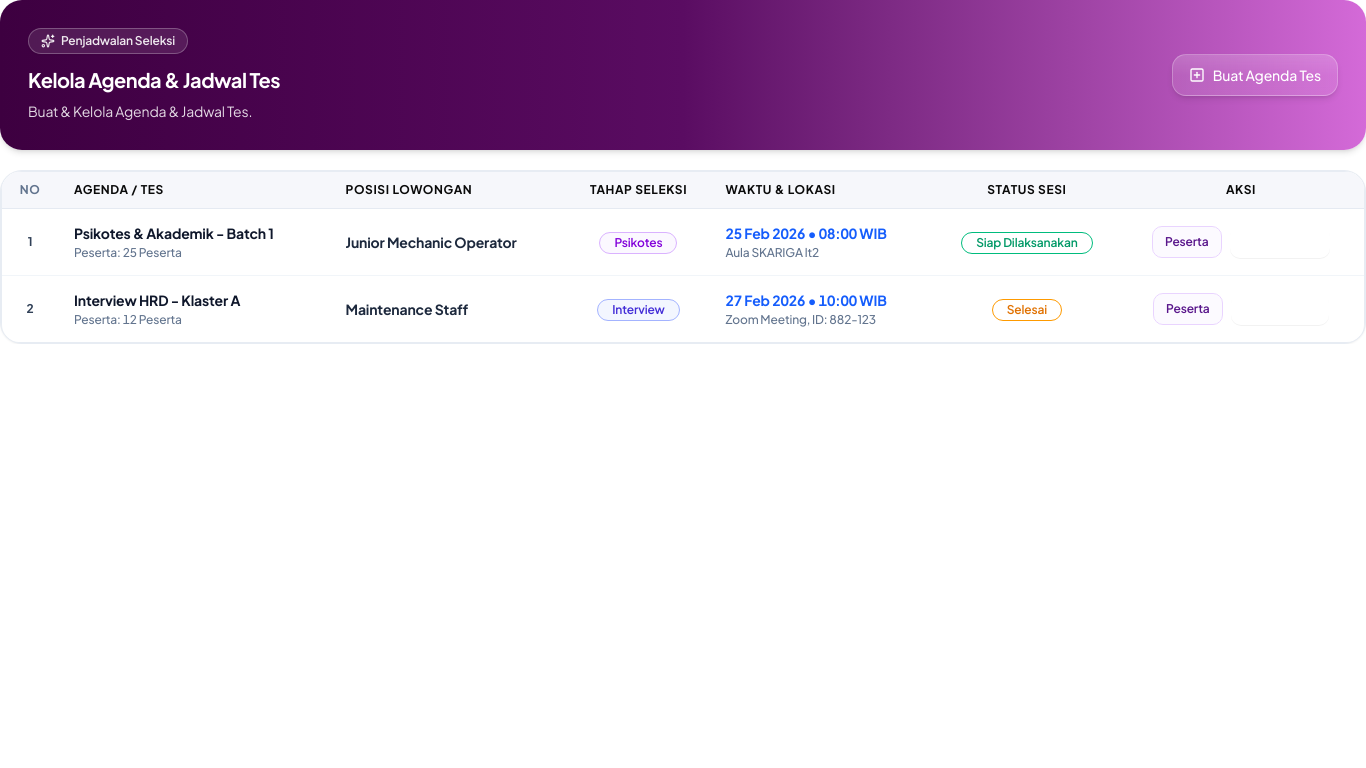
Test: JadwalPage Integration › displays validation error when required fields are empty on submit
Click the button "Buat Agenda Tes" at [1255, 75], box x1=1172 y1=54 x2=1338 y2=96
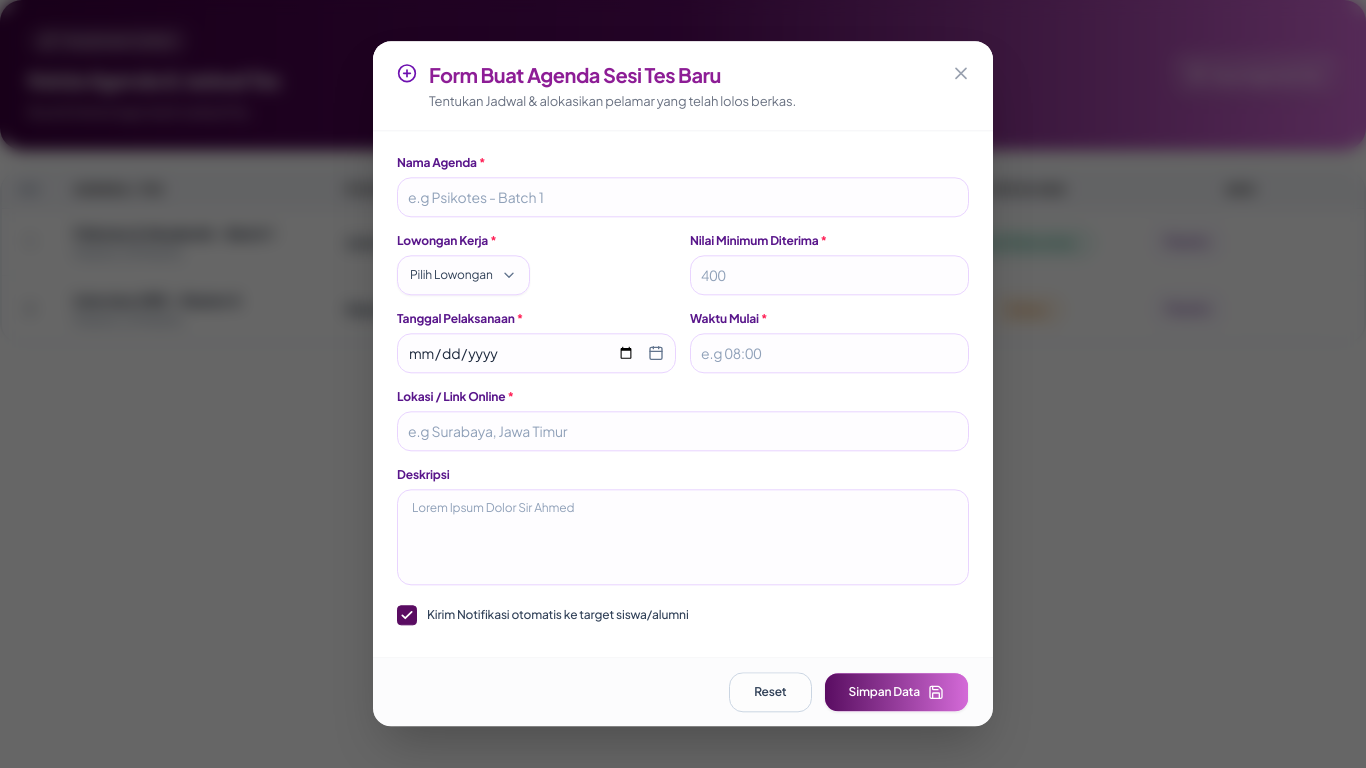
Now the dialog "Form Buat Agenda Sesi Tes Baru" is shown, box x1=373 y1=41 x2=993 y2=727
Click the button "Simpan Data" at [896, 693], box x1=824 y1=673 x2=969 y2=713
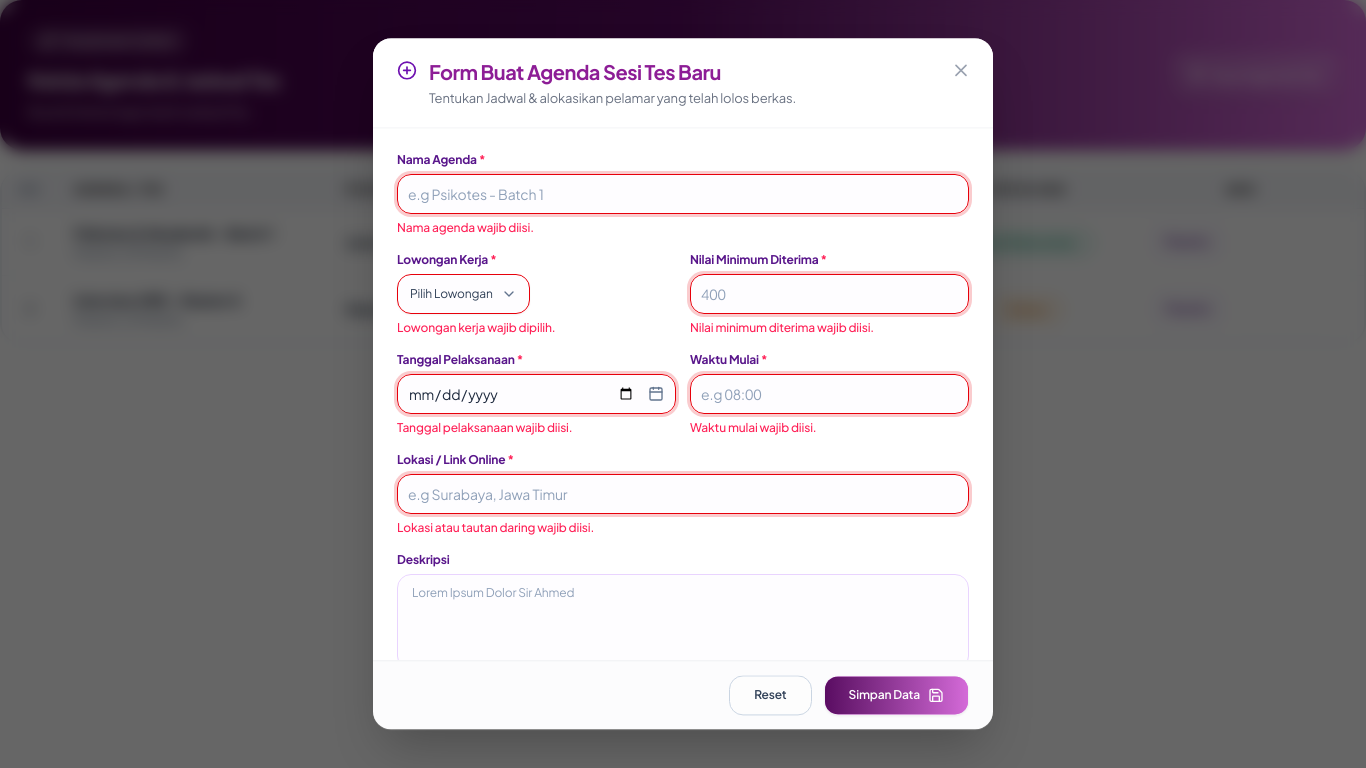
Now the text "Nama agenda wajib diisi." is shown, box x1=397 y1=221 x2=534 y2=236
Now the text "Lowongan kerja wajib dipilih." is shown, box x1=397 y1=321 x2=556 y2=336
Now the text "Nilai minimum diterima wajib diisi." is shown, box x1=690 y1=321 x2=874 y2=336
